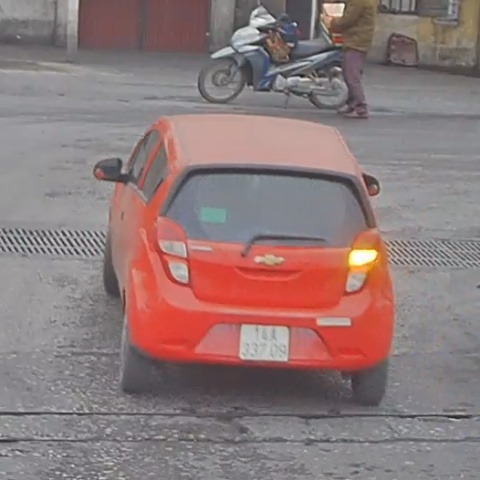vehicle plate: (231, 319, 291, 365)
